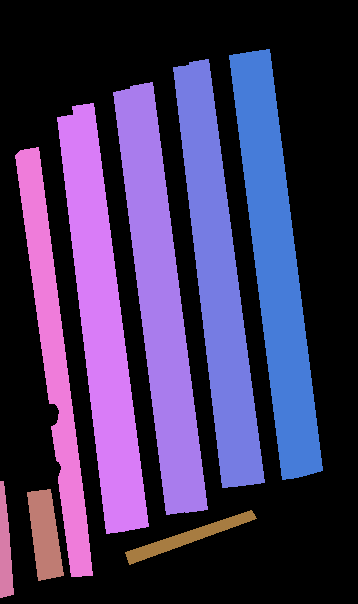parkingspot: (130, 82, 207, 512), (15, 147, 92, 576), (72, 103, 148, 530), (189, 59, 264, 485), (229, 52, 303, 479), (248, 49, 322, 476), (113, 88, 187, 514), (57, 114, 128, 533), (173, 65, 243, 487), (125, 510, 256, 564), (27, 489, 63, 580), (0, 481, 13, 597)
